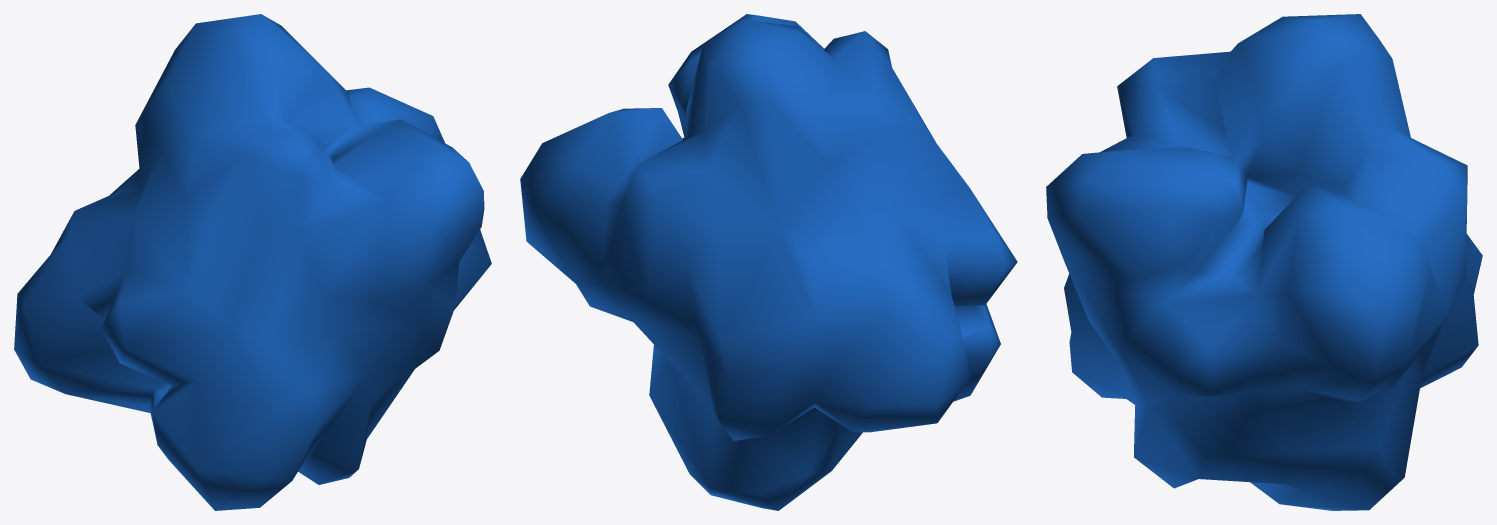
The model's file is Mgenitalium_gmk_2f3t_0_1_0.dae.
3 views of the same model, side by side, from view 1: azimuth 30°, elevation 25°; view 2: azimuth 150°, elevation 25°; view 3: azimuth 270°, elevation 25° (orthographic). The views are drawn at different scales.
Visible parts, largest first — view 1: CoarseMS_2f3t; view 2: CoarseMS_2f3t; view 3: CoarseMS_2f3t.
Boxes of the visible parts, x1,y1,x2,y2 form: CoarseMS_2f3t: (14,14,491,510); CoarseMS_2f3t: (520,14,1017,510); CoarseMS_2f3t: (1046,14,1482,510).
Bounding box in the file's own units: 107 × 114 × 89.48.
